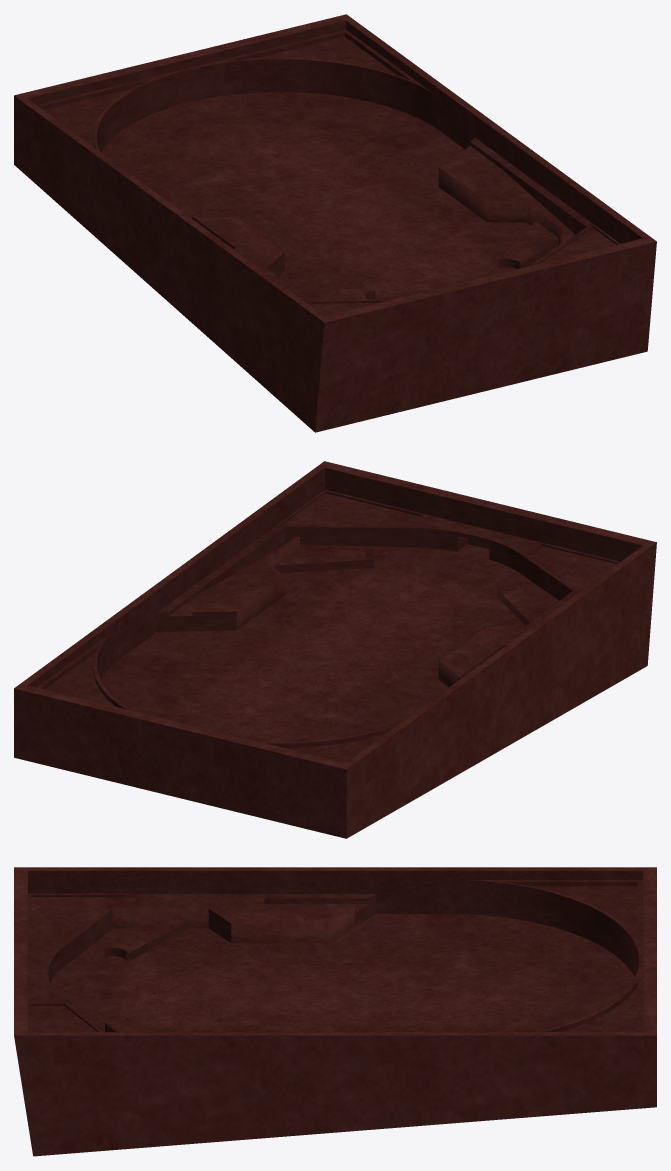
Rendered from newpinballbase.fbx.
The picture shows the model from 3 angles, top to bottom: view 1: azimuth 30°, elevation 25°; view 2: azimuth 150°, elevation 25°; view 3: azimuth 270°, elevation 25°; orthographic projection. The views are drawn at different scales.
Parts seen in each view (by area): view 1: newpinballbase; view 2: newpinballbase; view 3: newpinballbase.
Boxes of the visible parts, x1=… form: newpinballbase: x1=14, y1=14, x2=656, y2=432; newpinballbase: x1=14, y1=461, x2=656, y2=838; newpinballbase: x1=14, y1=867, x2=656, y2=1156.
Bounding box in the file's own units: 223 × 74.95 × 361.
